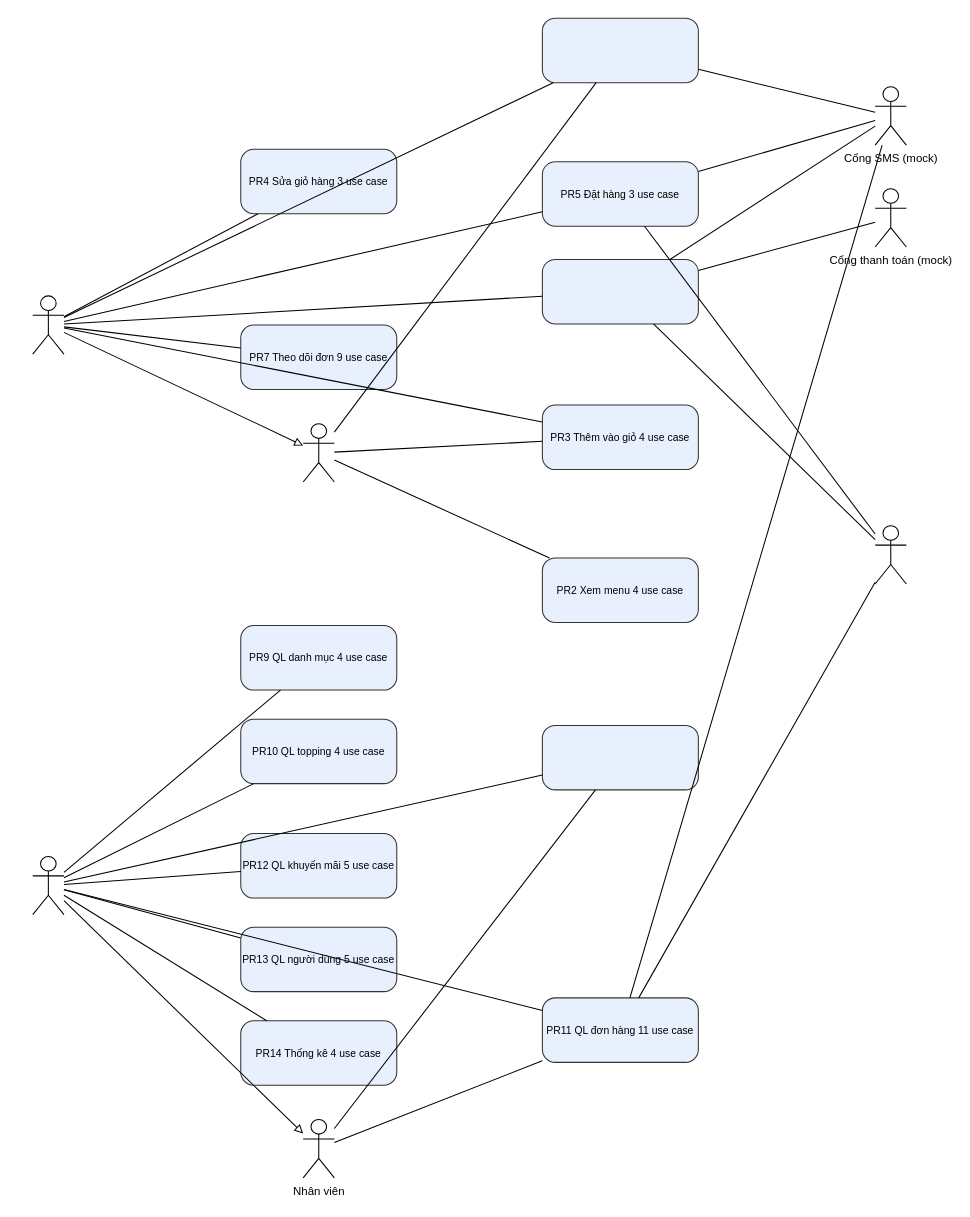
Some shapes in this 970 by 1217 pixel diagram are drawn without their labels. Here are the shapes that lost their labels. From the top down, the box of each, then its label:
(541, 17, 698, 83): PR1 Tài khoản 7 use case
(541, 258, 698, 324): PR6 Thanh toán 3 use case
(32, 295, 64, 354): Khách hàng
(302, 423, 334, 482): Khách vãng lai
(874, 525, 906, 584): Dịch vụ email
(541, 724, 698, 790): PR8 QL sản phẩm 11 use case
(32, 855, 64, 915): Quản lý
